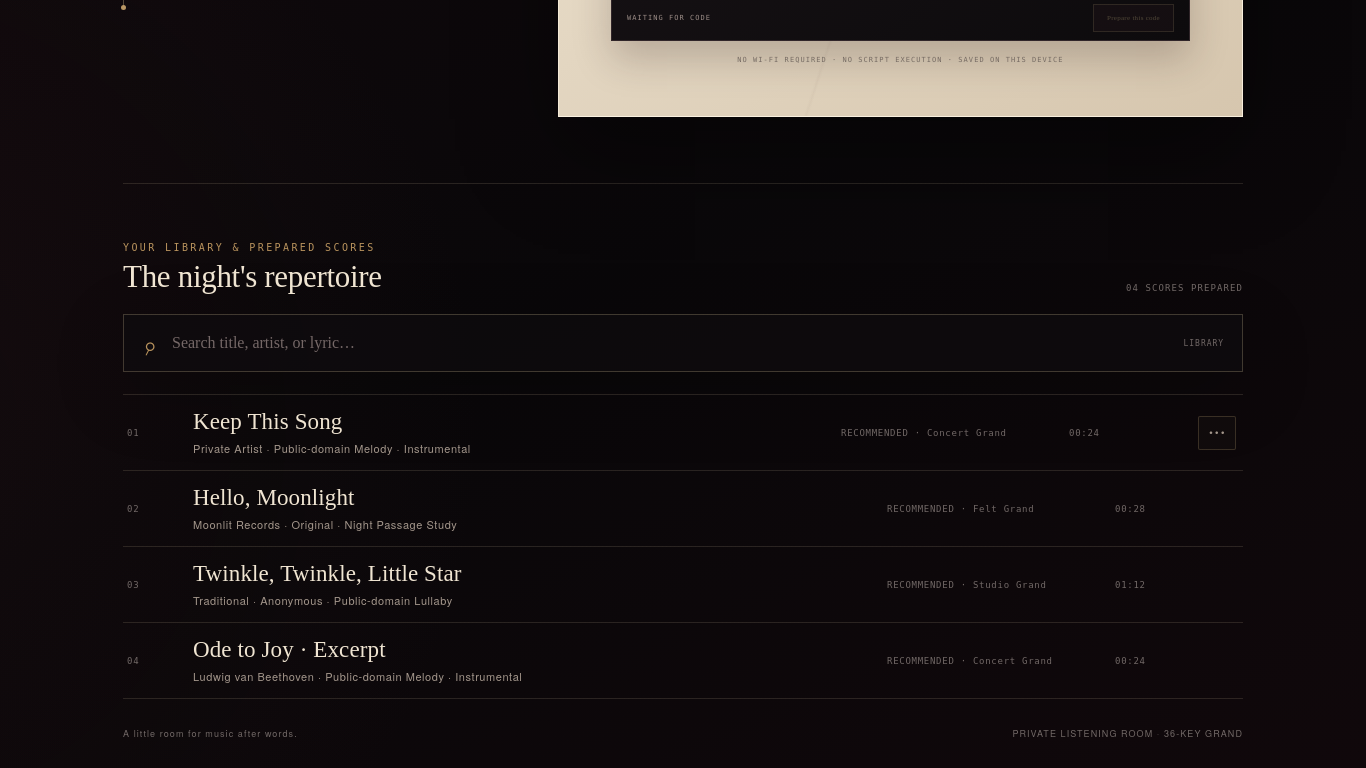
it: MoonlitPiano › keeps the private row and reports a rejected deletion
(page scrolled)
Click the button named "Manage Keep This Song" at (1217, 433), box [1198, 416, 1236, 450]
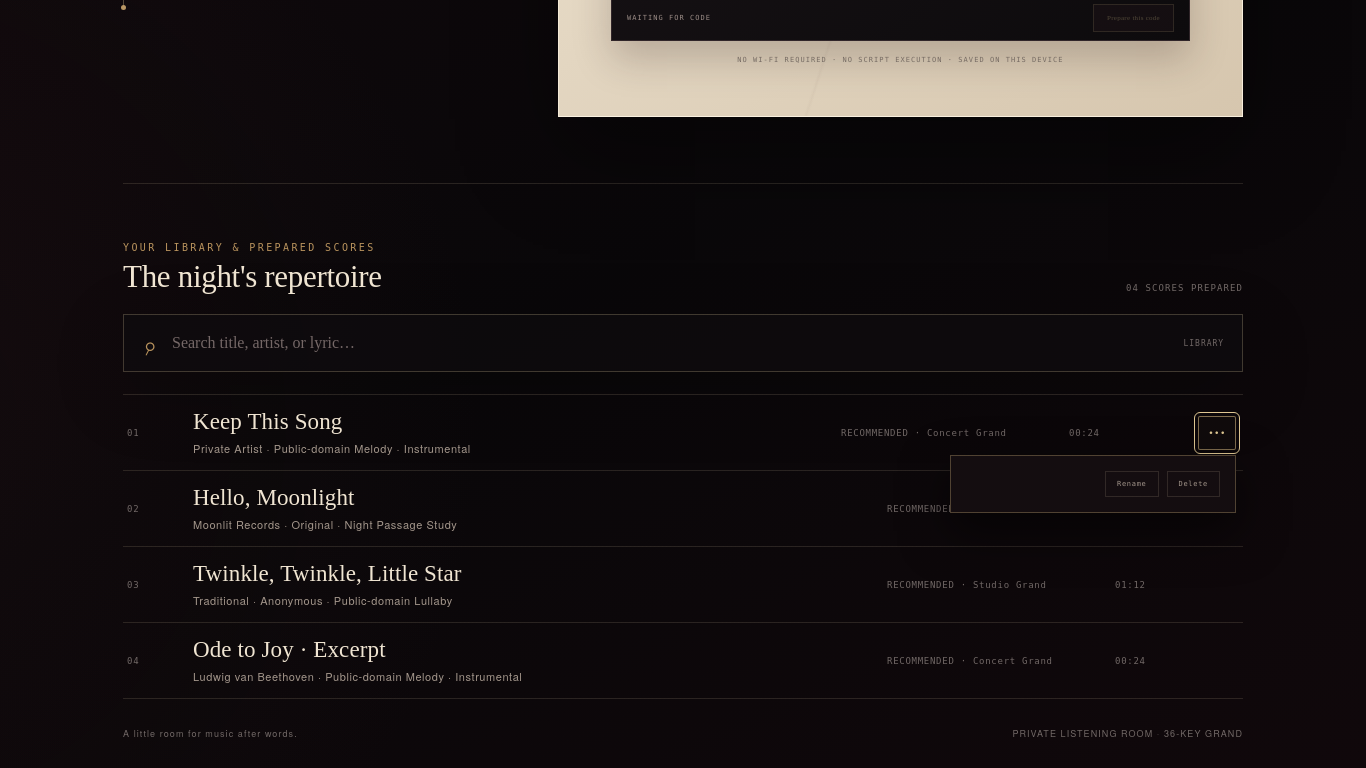
Click the button "Delete" at (1193, 484), box [1166, 471, 1220, 497]
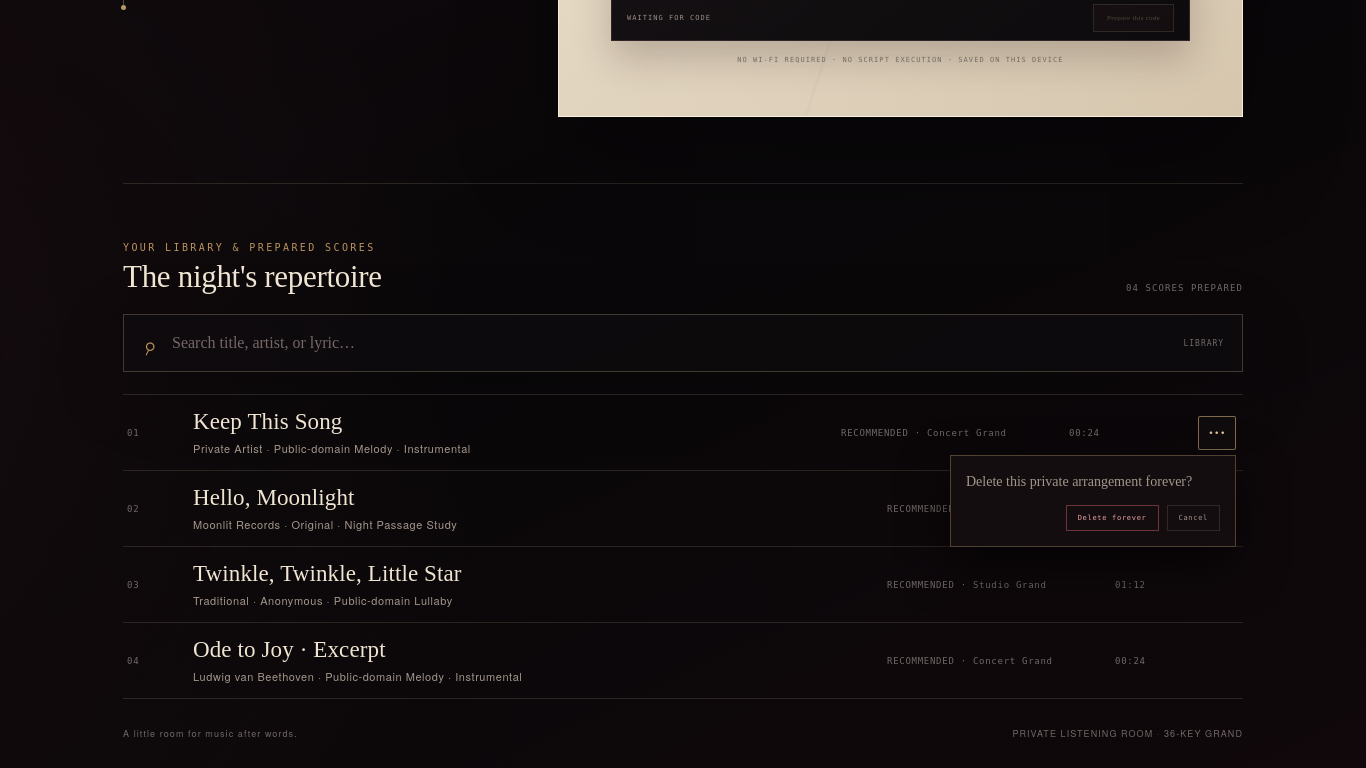
Click the button "Delete forever" at (1112, 518), box [1066, 505, 1158, 531]
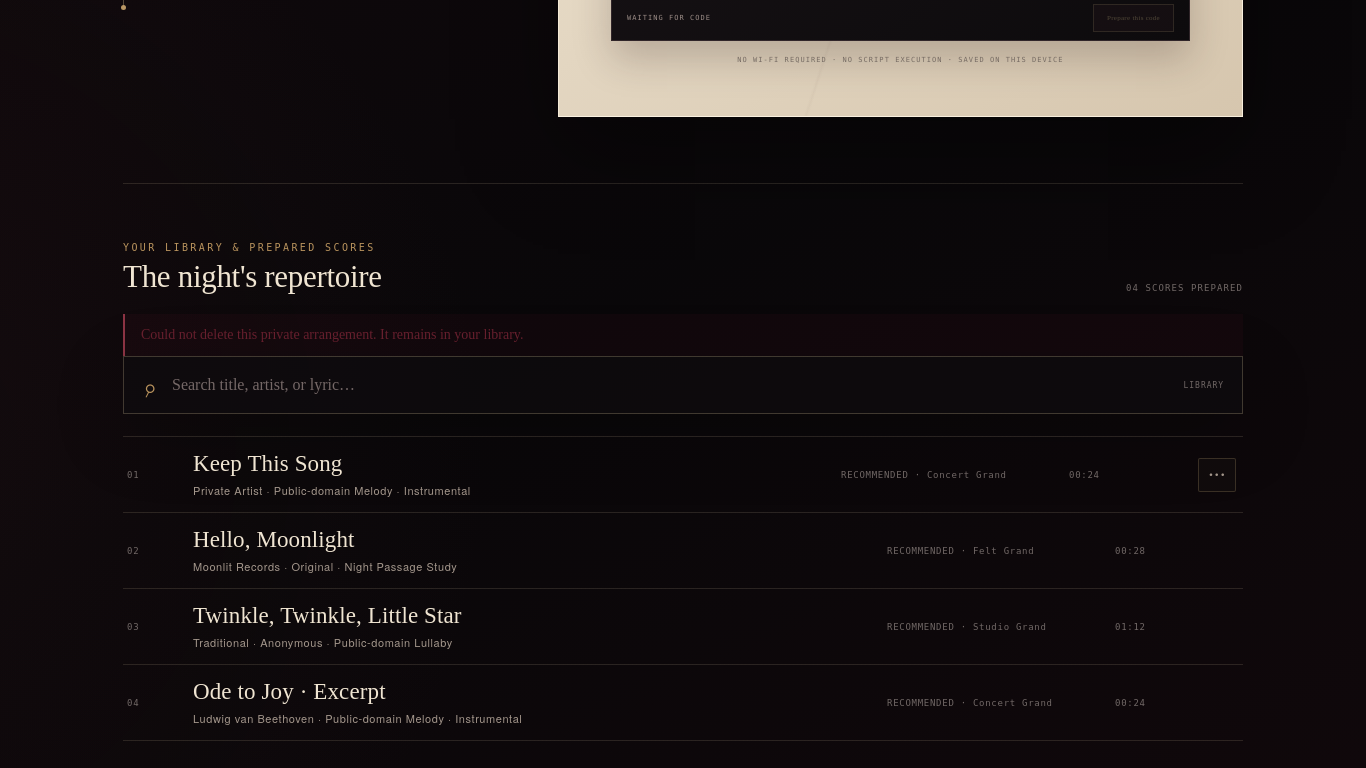
Expected: the button with aria-label "Open Keep This Song" is shown, [123, 437, 1243, 513]
Expected: the message shows "Could not delete", [141, 327, 523, 342]
